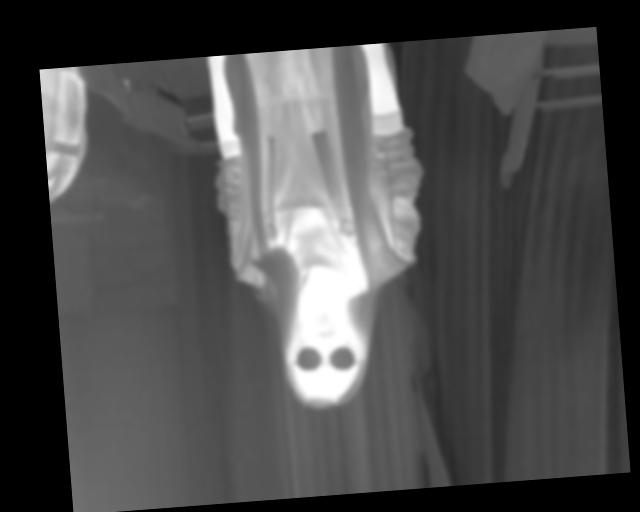face: (385, 232, 461, 314), (270, 293, 343, 376)
